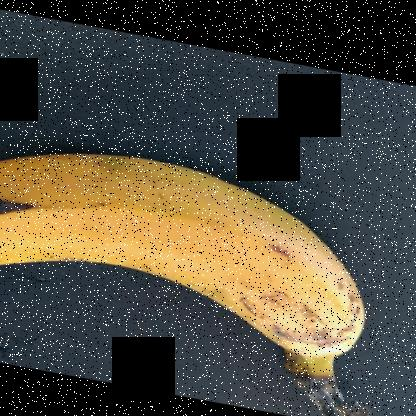ripe: (0, 115, 376, 364)
